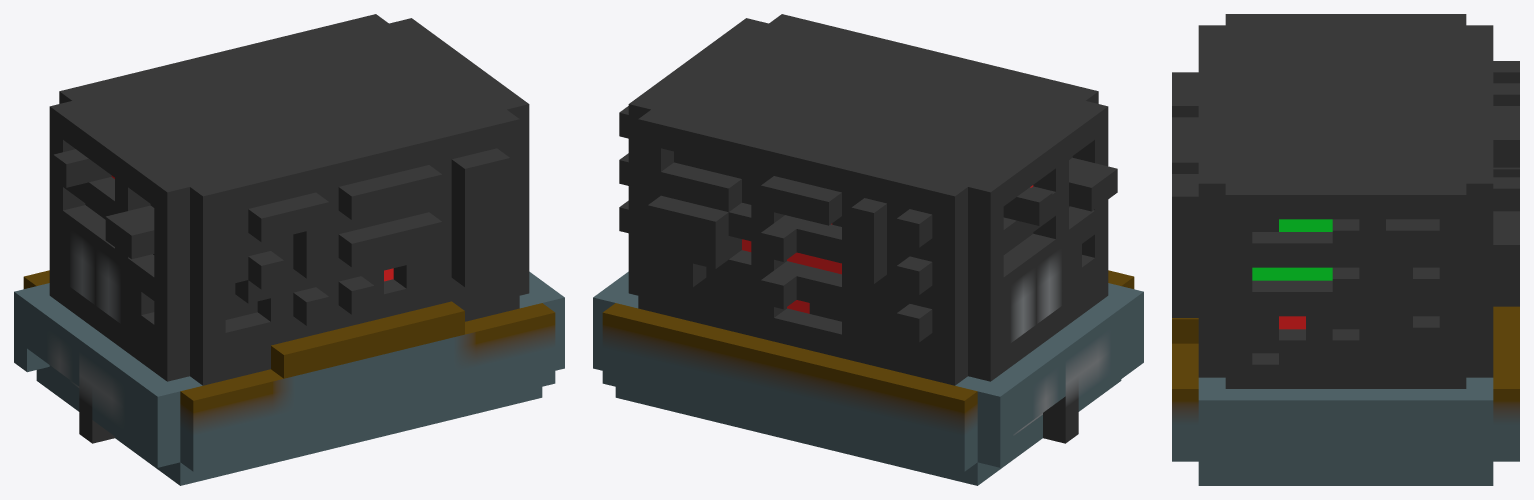
File: Body10.fbx
3 renders of one model, left to right at view 1: azimuth 30°, elevation 25°; view 2: azimuth 150°, elevation 25°; view 3: azimuth 270°, elevation 25°, orthographic. The views are drawn at different scales.
Visible parts, largest first — view 1: Body10; view 2: Body10; view 3: Body10.
Part boxes in pixels (<box>): Body10: <box>14,14,564,485</box>; Body10: <box>593,14,1143,485</box>; Body10: <box>1172,14,1519,485</box>.
Bounding box in the file's own units: 90 × 60 × 65.
